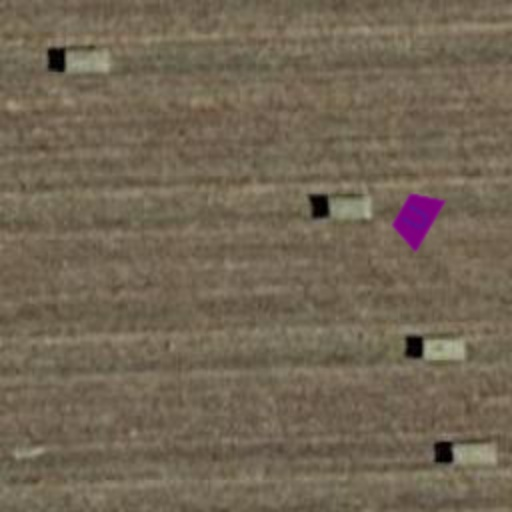trapezoid: (374, 176, 458, 260)
